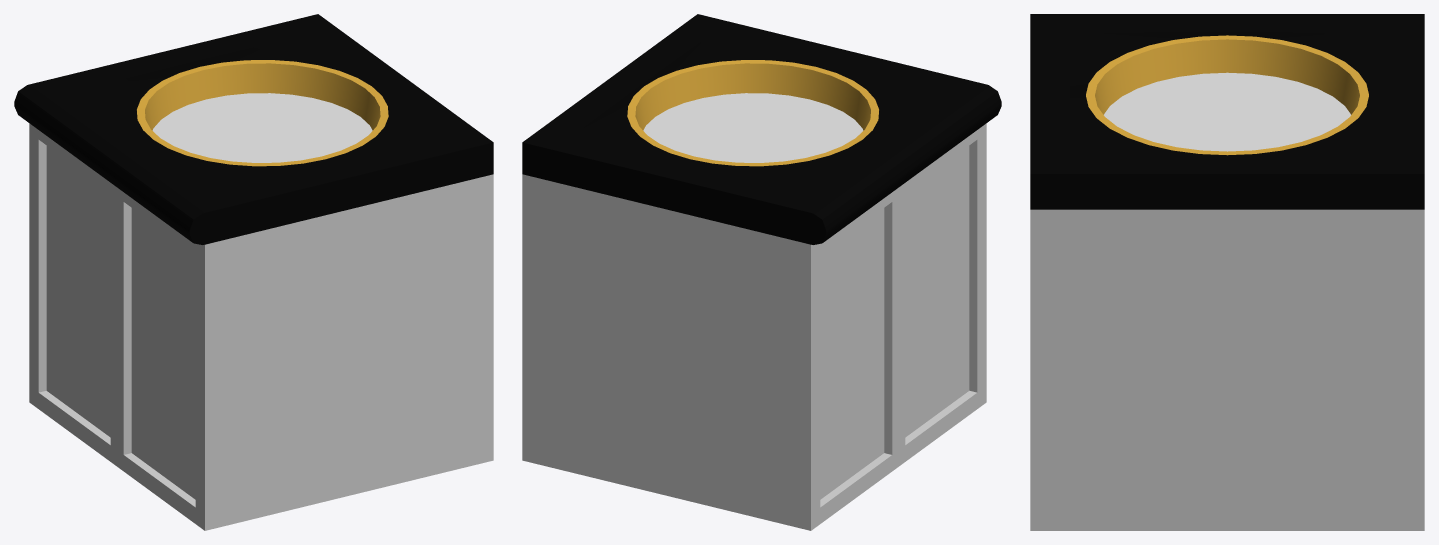
The model's file is soupcounter.fbx.
3 views of the same model, side by side, from view 1: azimuth 30°, elevation 25°; view 2: azimuth 150°, elevation 25°; view 3: azimuth 270°, elevation 25° (orthographic). The views are drawn at different scales.
Parts seen in each view (by area): view 1: Cube; view 2: Cube; view 3: Cube.
Boxes of the visible parts, bbox=[...] form: Cube: bbox=[14, 14, 493, 530]; Cube: bbox=[522, 14, 1001, 530]; Cube: bbox=[1030, 14, 1424, 530].
Bounding box in the file's own units: 200 × 200 × 200.
